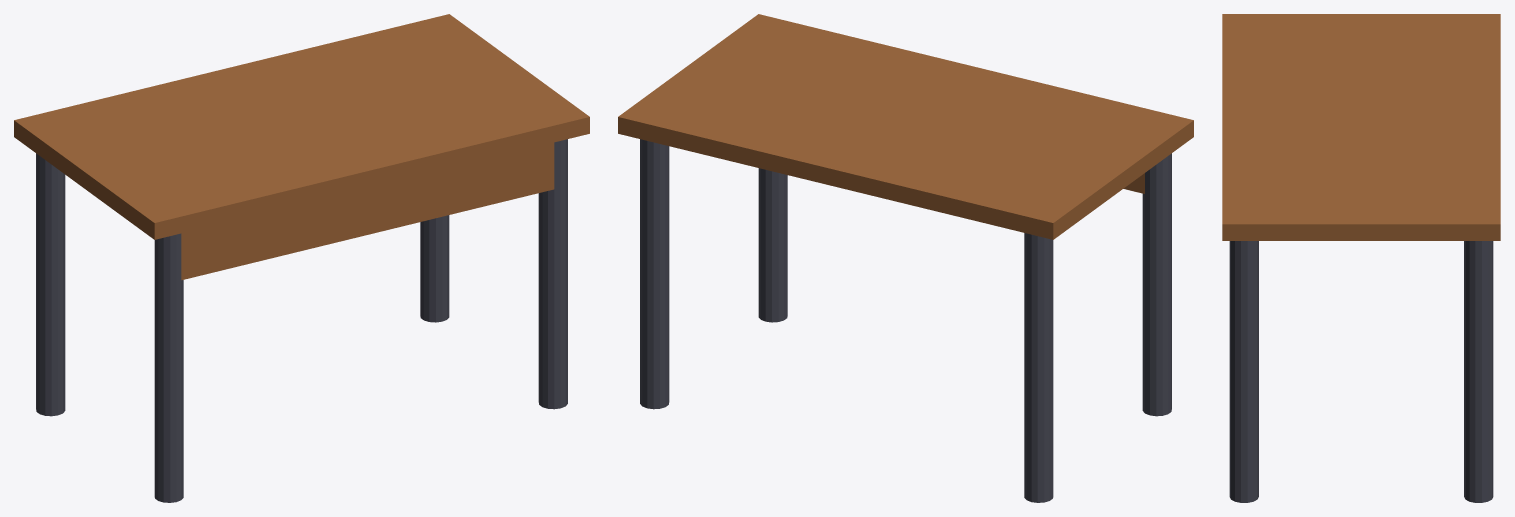
File: mesaprofessora.fbx
3 renders of one model, left to right at view 1: azimuth 30°, elevation 25°; view 2: azimuth 150°, elevation 25°; view 3: azimuth 270°, elevation 25°, orthographic.
Visible parts, largest first — view 1: Cylinder.003; view 2: Cylinder.003; view 3: Cylinder.003.
Boxes of the visible parts, bbox=[...] form: Cylinder.003: bbox=[14, 14, 589, 502]; Cylinder.003: bbox=[618, 14, 1193, 502]; Cylinder.003: bbox=[1222, 14, 1500, 502].
Size of the model in its own units: 1154 by 730 by 646.
